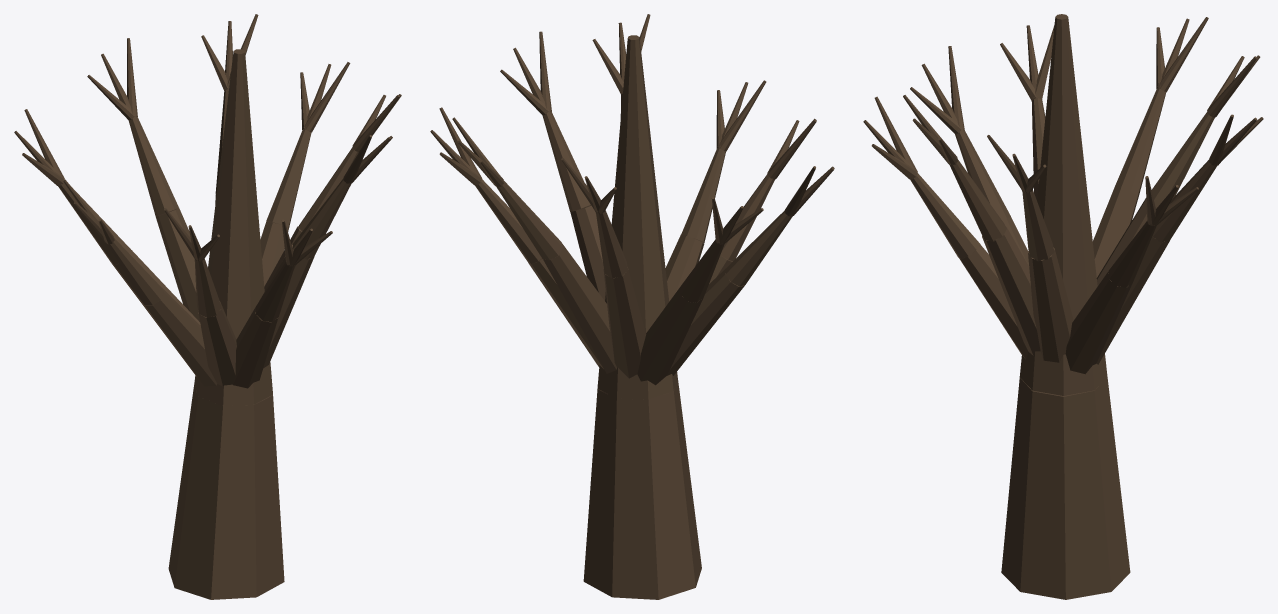
Rendered from oak_ancient_winter.glb.
3 views of the same model, side by side, from view 1: azimuth 30°, elevation 25°; view 2: azimuth 150°, elevation 25°; view 3: azimuth 270°, elevation 25° (orthographic). The views are drawn at different scales.
Parts seen in each view (by area): view 1: oak_ancient_winter; view 2: oak_ancient_winter; view 3: oak_ancient_winter.
Part boxes in pixels (left/top/right/bottom): oak_ancient_winter: left=14, top=14, right=401, bottom=599; oak_ancient_winter: left=430, top=14, right=834, bottom=599; oak_ancient_winter: left=863, top=14, right=1263, bottom=599.
Bounding box in the file's own units: 15.28 × 23.04 × 14.88.
